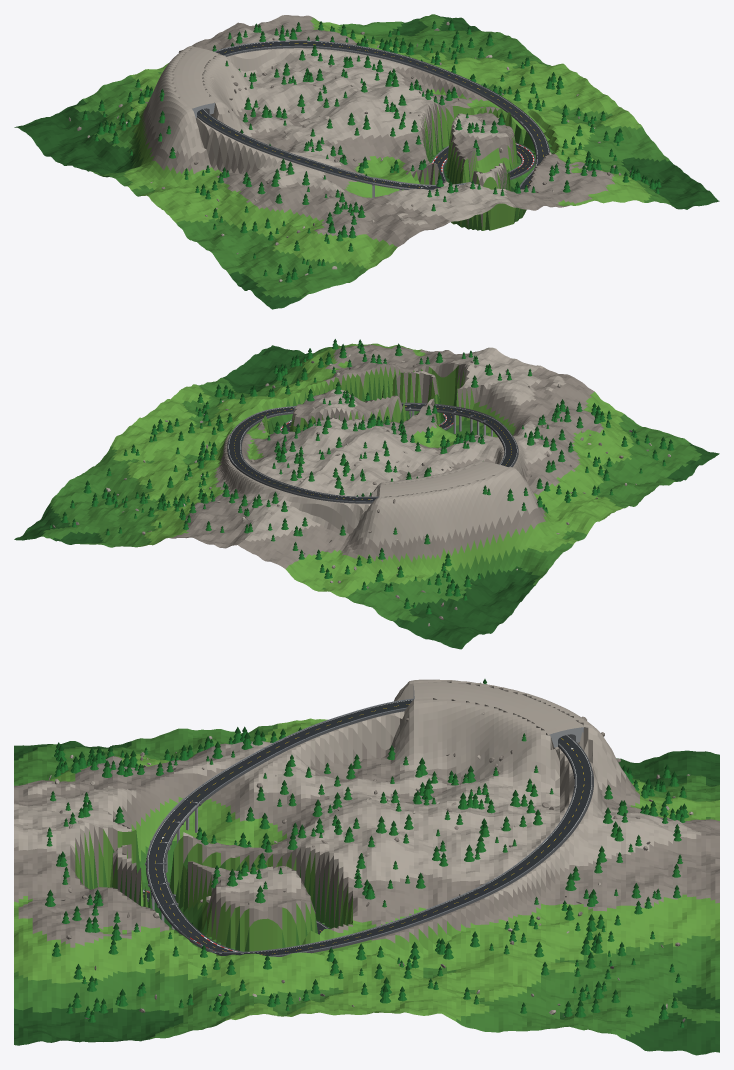
Rendered from MountainTrack.glb.
3 views of the same model, one above another, from view 1: azimuth 30°, elevation 25°; view 2: azimuth 150°, elevation 25°; view 3: azimuth 270°, elevation 25° (orthographic). The views are drawn at different scales.
Visible parts, largest first — view 1: Mountain Terrain, Mountain Race Track, Tunnel Hillside, Road Shoulder Left, Road Shoulder Right, Guardrail Left, Guardrail Right; view 2: Mountain Terrain, Mountain Race Track, Tunnel Hillside, Road Shoulder Right, Road Shoulder Left; view 3: Mountain Terrain, Mountain Race Track, Tunnel Hillside, Road Shoulder Right, Road Shoulder Left, Guardrail Left, Guardrail Right.
Boxes of the visible parts, x1,y1,x2,y2 form: Mountain Terrain: (14, 14, 719, 309); Mountain Race Track: (197, 41, 548, 189); Tunnel Hillside: (173, 47, 219, 108); Road Shoulder Left: (204, 46, 537, 186); Road Shoulder Right: (197, 41, 549, 189); Guardrail Left: (204, 45, 536, 185); Guardrail Right: (197, 40, 549, 182); Mountain Terrain: (14, 343, 719, 649); Mountain Race Track: (228, 404, 517, 501); Tunnel Hillside: (379, 461, 507, 497); Road Shoulder Right: (227, 403, 518, 503); Road Shoulder Left: (240, 409, 505, 497); Mountain Terrain: (14, 679, 719, 1055); Mountain Race Track: (143, 699, 592, 955); Tunnel Hillside: (413, 682, 587, 734); Road Shoulder Right: (143, 699, 593, 956); Road Shoulder Left: (143, 708, 575, 953); Guardrail Left: (143, 707, 575, 952); Guardrail Right: (143, 698, 592, 956).
Bounding box in the file's own units: 520 × 104 × 520.
